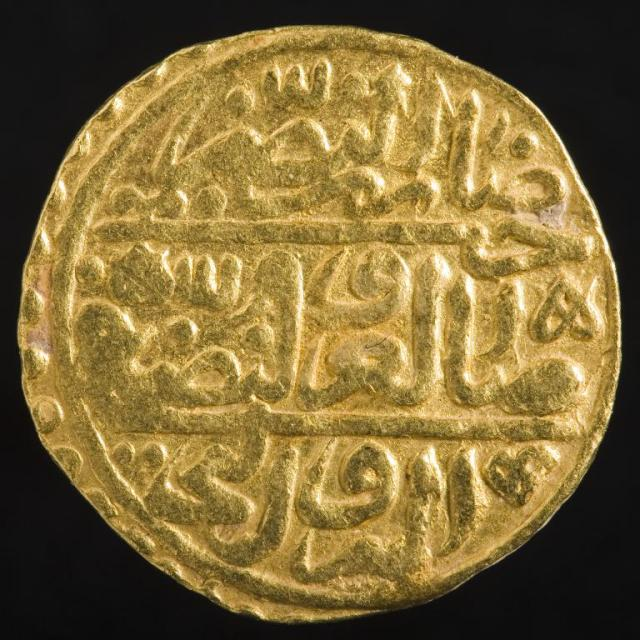Coin: (18, 24, 617, 622)
